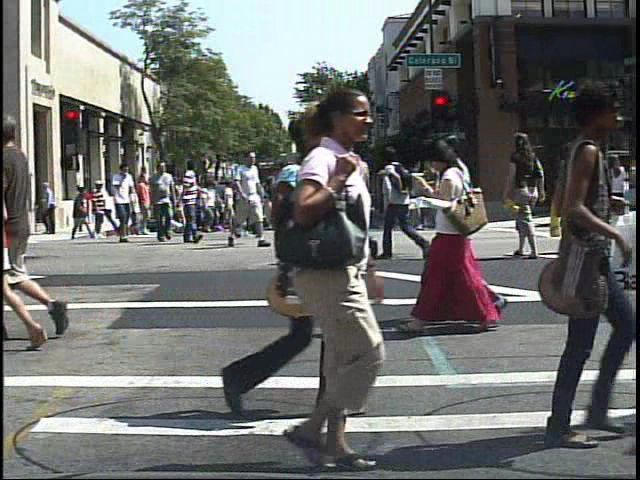person: (220, 83, 415, 479), (506, 79, 630, 462), (6, 102, 94, 345), (409, 133, 503, 336), (451, 127, 486, 342), (379, 140, 434, 266), (501, 131, 548, 257), (552, 137, 594, 260), (228, 145, 266, 252), (603, 145, 635, 249), (147, 157, 180, 245), (350, 135, 371, 270), (174, 157, 204, 247), (108, 161, 137, 244), (383, 164, 408, 236), (85, 178, 110, 241), (78, 182, 98, 230)
